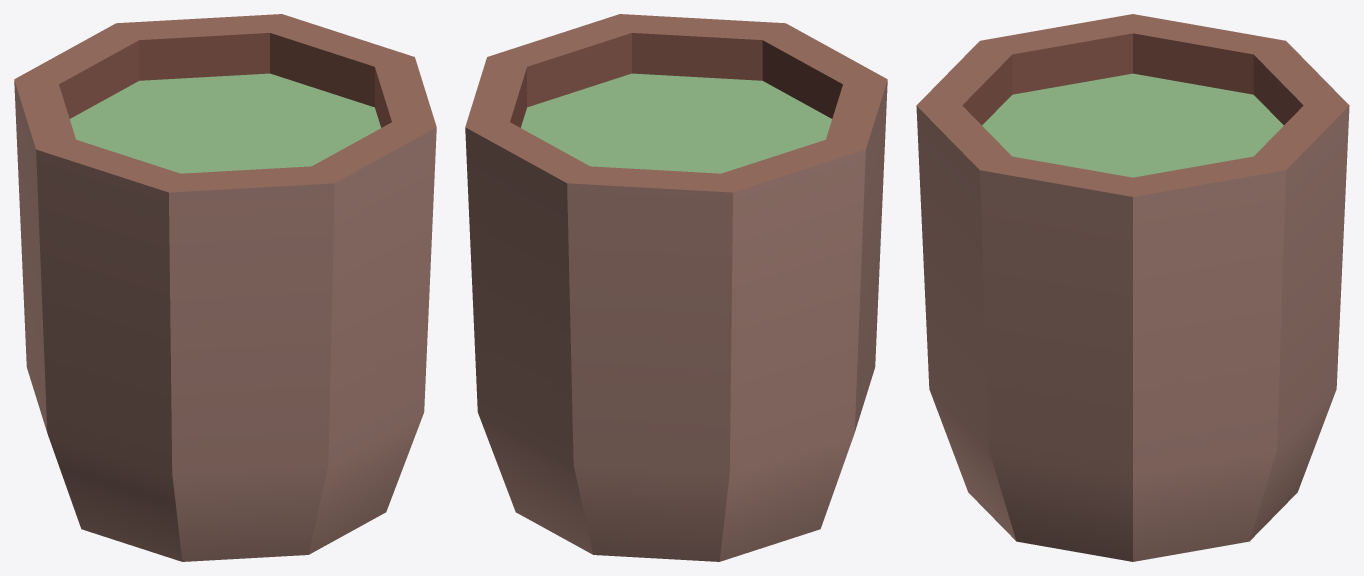
The model's file is tea_cup_full.fbx.
3 views of the same model, side by side, from view 1: azimuth 30°, elevation 25°; view 2: azimuth 150°, elevation 25°; view 3: azimuth 270°, elevation 25° (orthographic).
Visible parts, largest first — view 1: tea_cup_full; view 2: tea_cup_full; view 3: tea_cup_full.
Part boxes in pixels (x1,y1,x2,y2): tea_cup_full: [14, 14, 436, 561]; tea_cup_full: [465, 14, 887, 561]; tea_cup_full: [916, 14, 1349, 561].
Size of the model in its own units: 0.6694 by 0.6597 by 0.6694.
